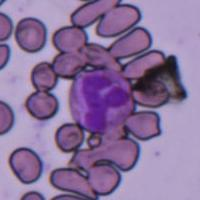N: (69, 68, 133, 135)
